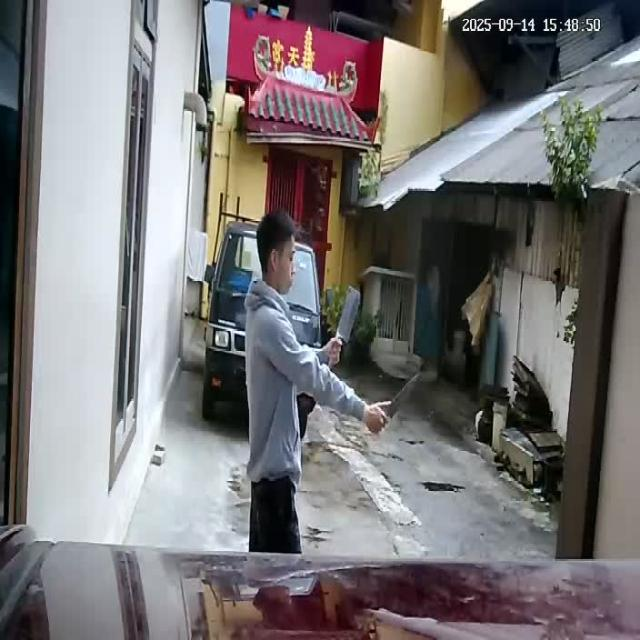senjata_tajam: (385, 369, 424, 419), (333, 282, 362, 346)
